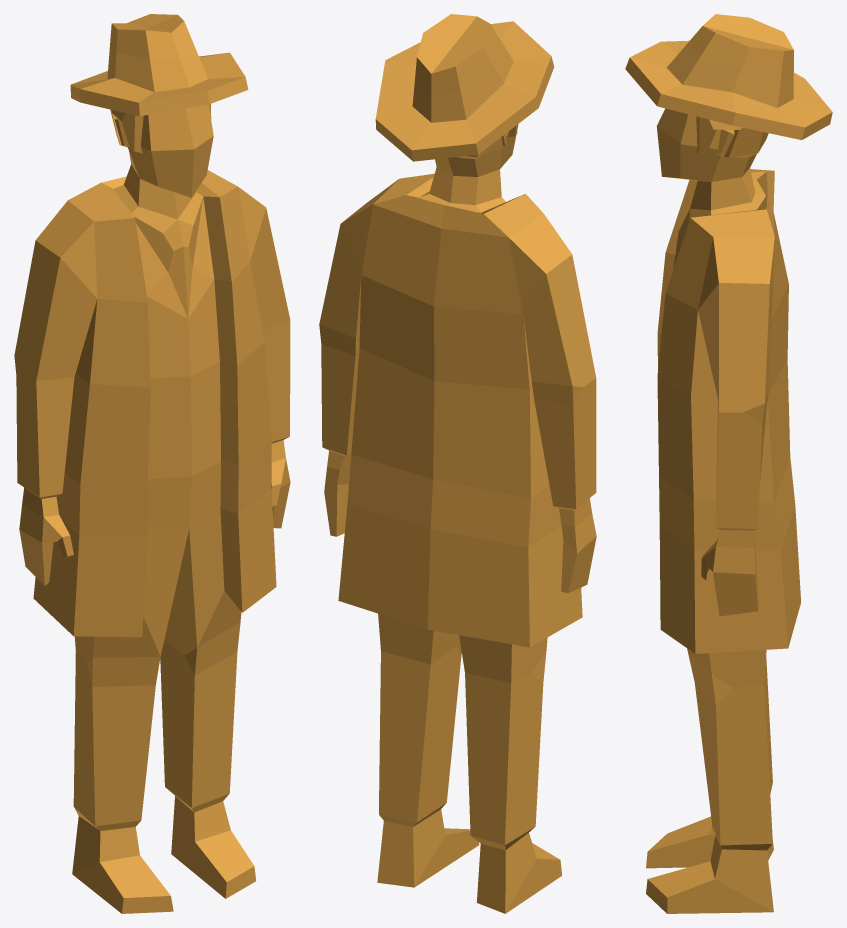
File: man-mafia.fbx
3 views of the same model, side by side, from view 1: azimuth 30°, elevation 25°; view 2: azimuth 150°, elevation 25°; view 3: azimuth 270°, elevation 25° (orthographic).
Visible parts, largest first — view 1: man-mafia; view 2: man-mafia; view 3: man-mafia.
Boxes of the visible parts, left/top/right/bottom form: man-mafia: left=14, top=14, right=290, bottom=913; man-mafia: left=319, top=14, right=596, bottom=913; man-mafia: left=625, top=14, right=832, bottom=913.
Bounding box in the file's own units: 0.5881 × 1.89 × 0.4147.
